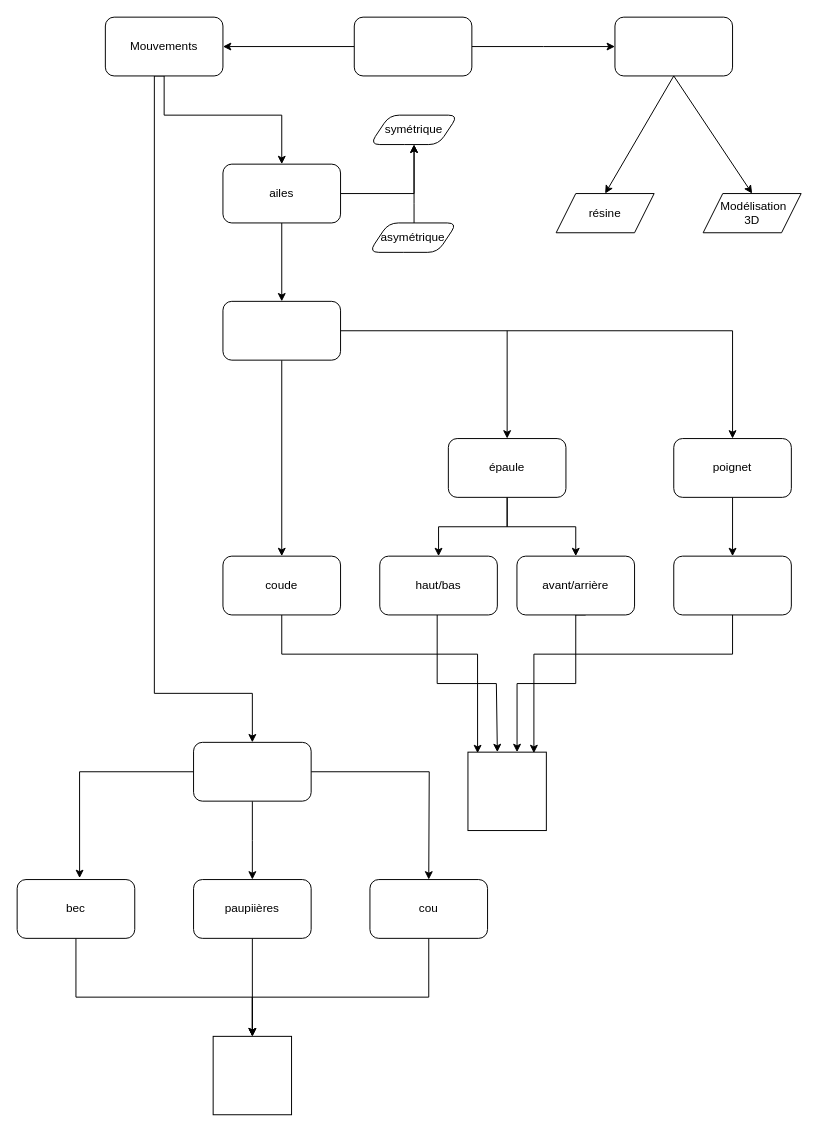
Image size: 818x1132. Some labels were removed from this diagram. Each missing label, with the centre of its shape:
Animatronique Aigle: the point at 412,46
articulations: the point at 281,330
Design: the point at 673,46
moteurs XL430: the point at 506,791
servomoteurs: the point at 252,1075
tête: the point at 252,771
utilisation de "tendons": the point at 732,585
